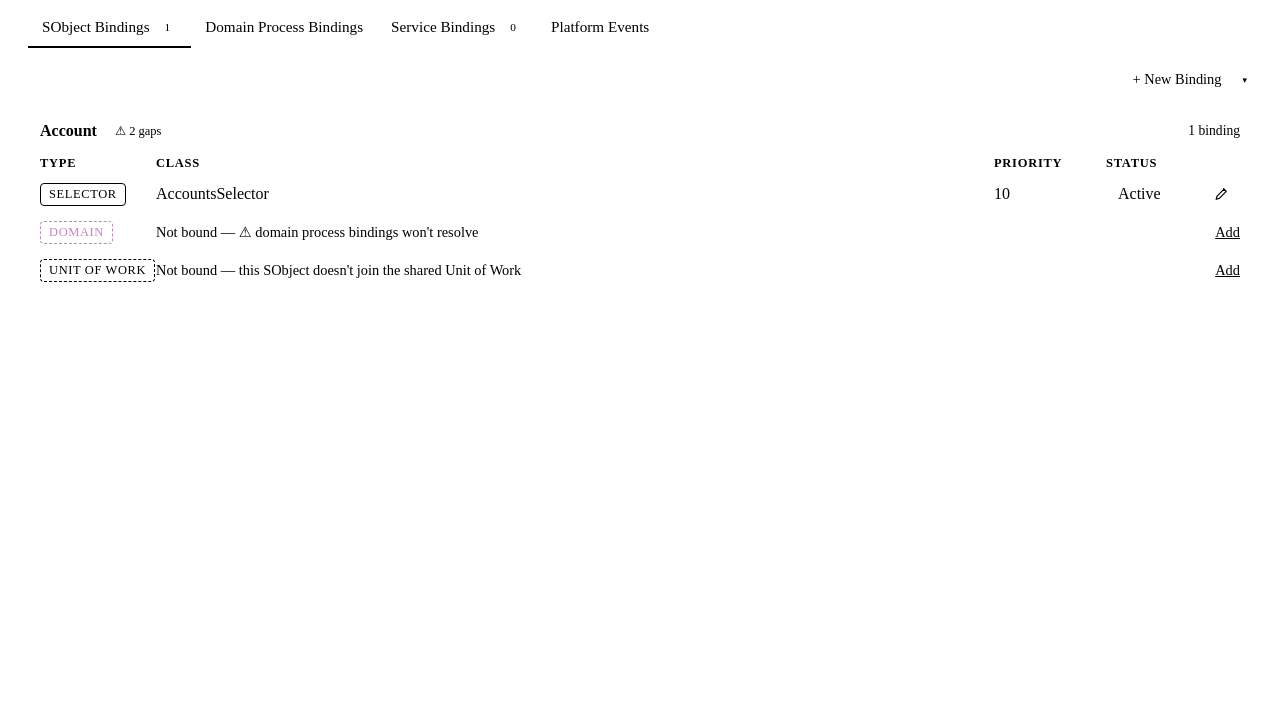
Test: App — Application Factory create/edit form (stage 2) › Service Bindings tab's + New Binding has no menu — it opens the create form directly, defaulting to Service
Click the tab "Service Bindings 0": click(457, 28) [377,8,537,48]
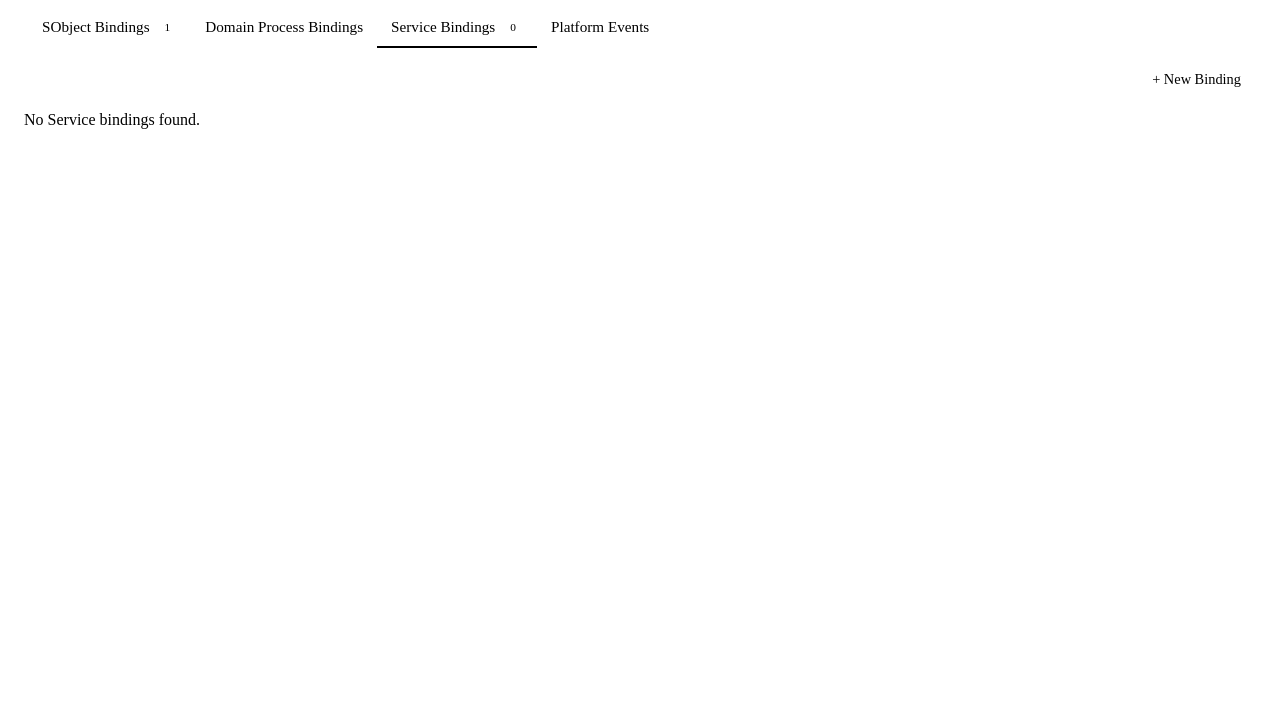
Click the button "+ New Binding": click(1197, 80) [1137,64,1256,95]
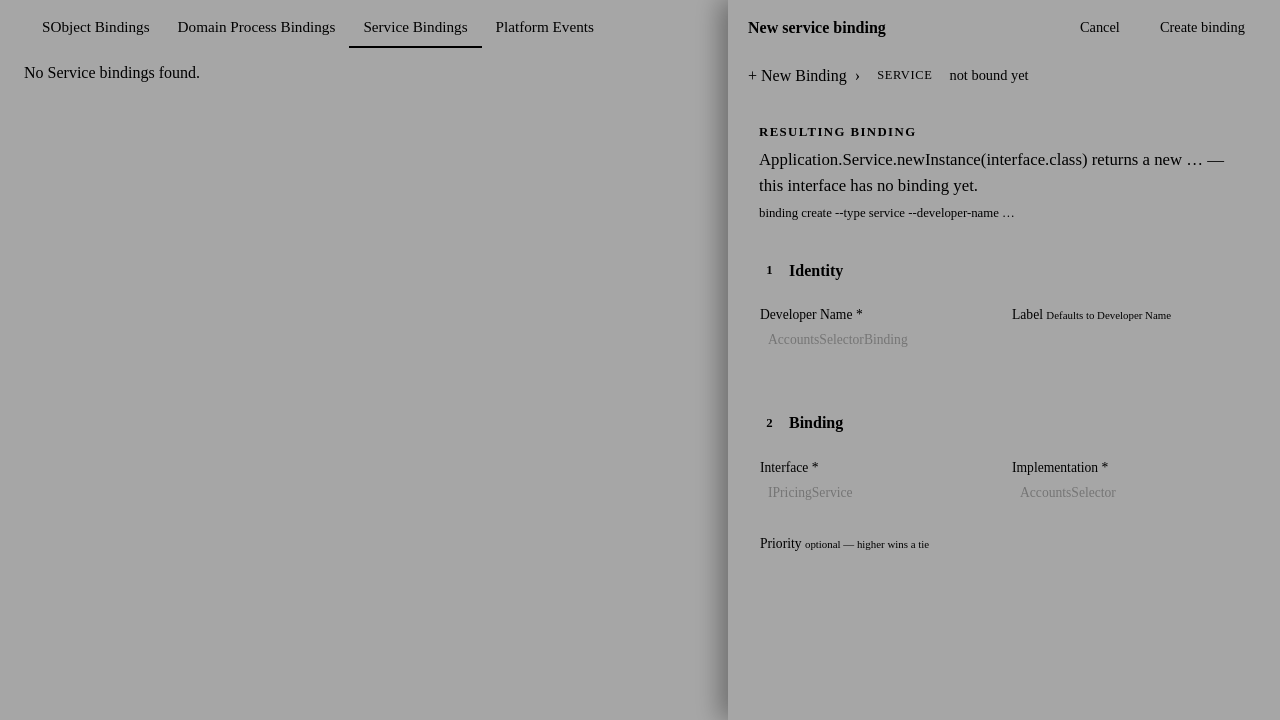
Check: the text "New service binding" is shown, box [748,18,886,36]
Check: the field with id "fBindingInterface" is shown, box [760,480,996,506]
